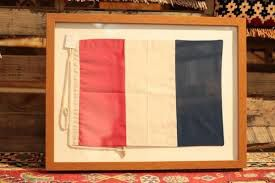French Flag: (76, 39, 225, 147)
